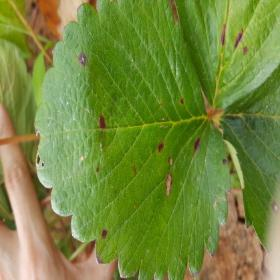Leaf Spot: (34, 0, 233, 279), (215, 63, 279, 255), (173, 0, 279, 108)
